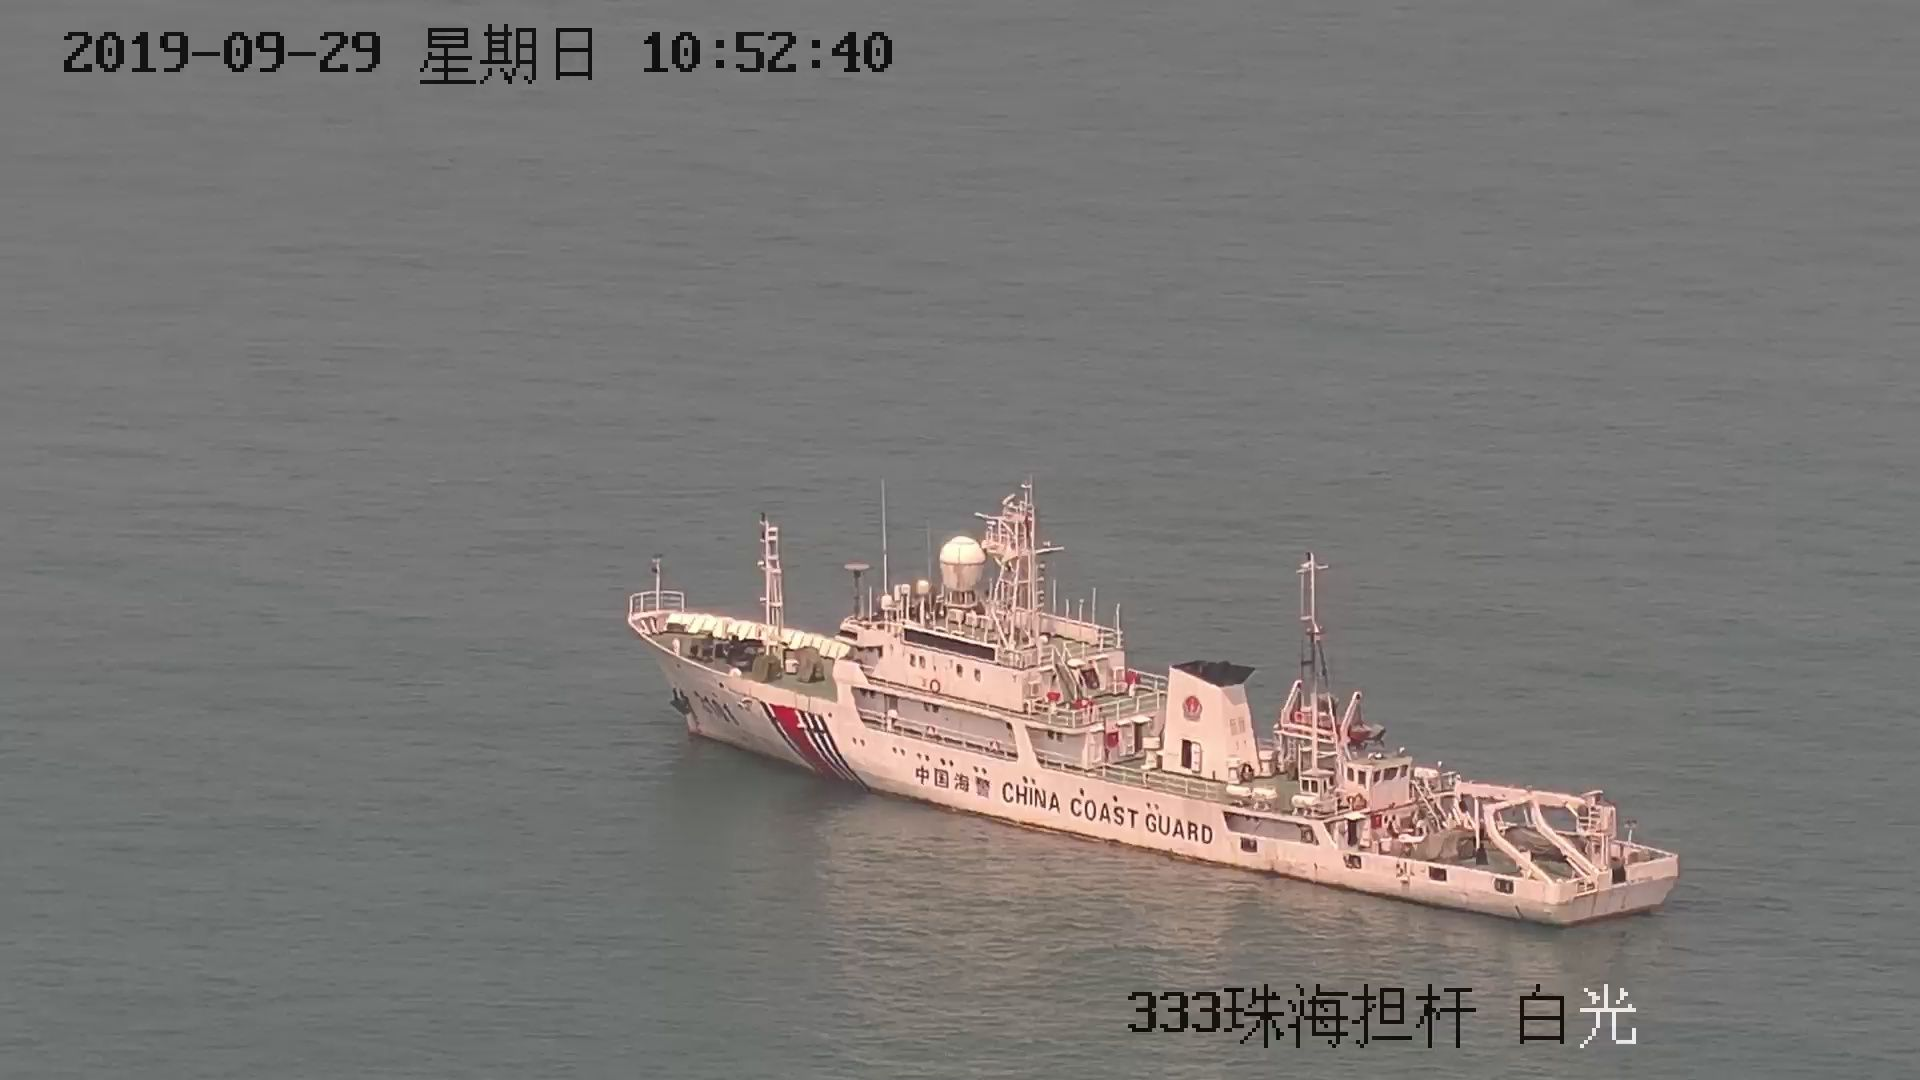ship: (622, 471, 1681, 928)
